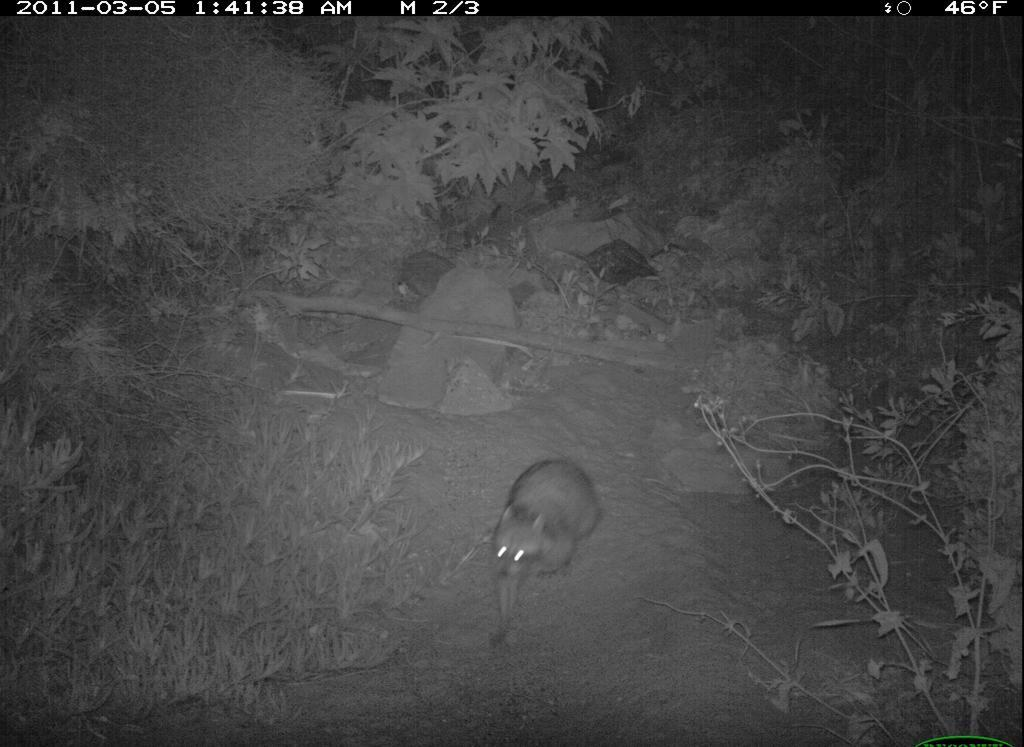raccoon: (484, 455, 607, 653)
